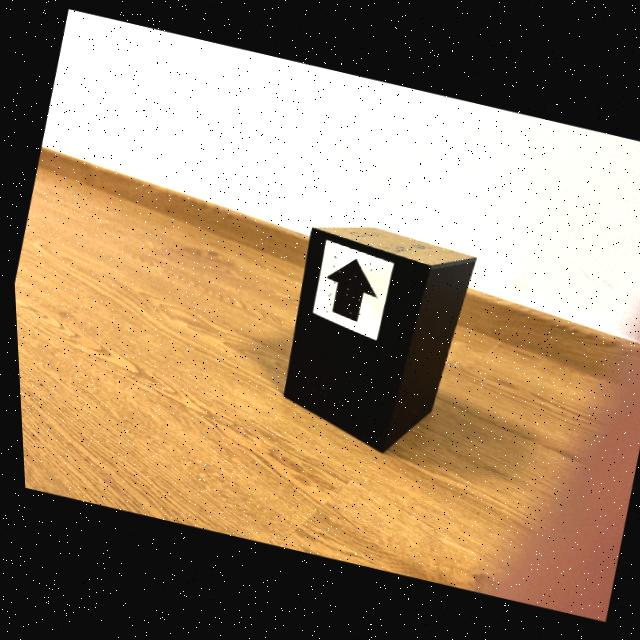UP: (322, 261, 373, 324)
